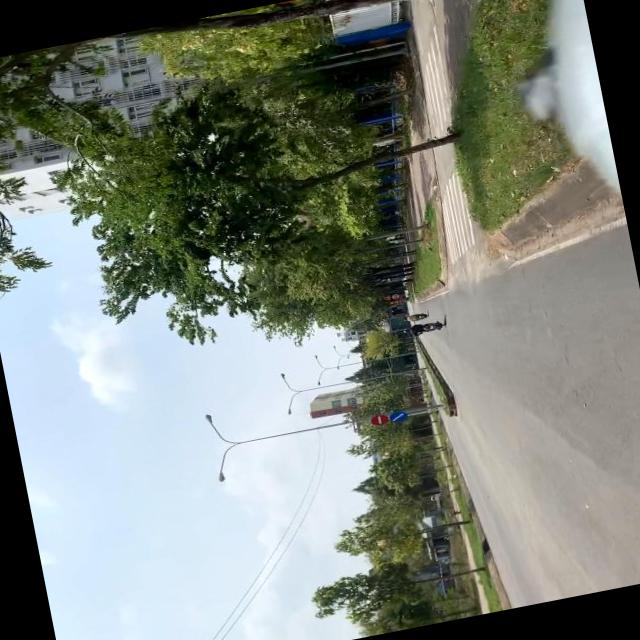P-102: (368, 411, 390, 427)
R-302a: (388, 410, 408, 423)
